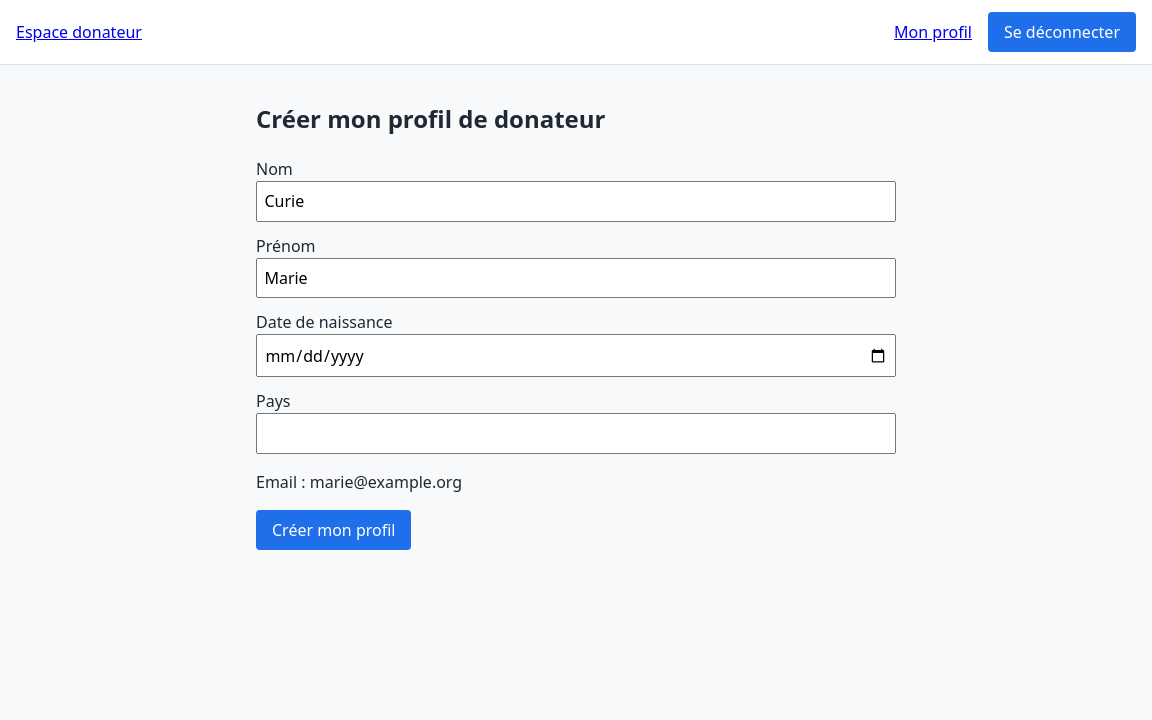
Test: profil (DB10) › saisie refusee (400) : message, formulaire conserve
This screenshot has width=1152, height=720.
Click the button "Créer mon profil" at (334, 530), box [256, 510, 412, 550]
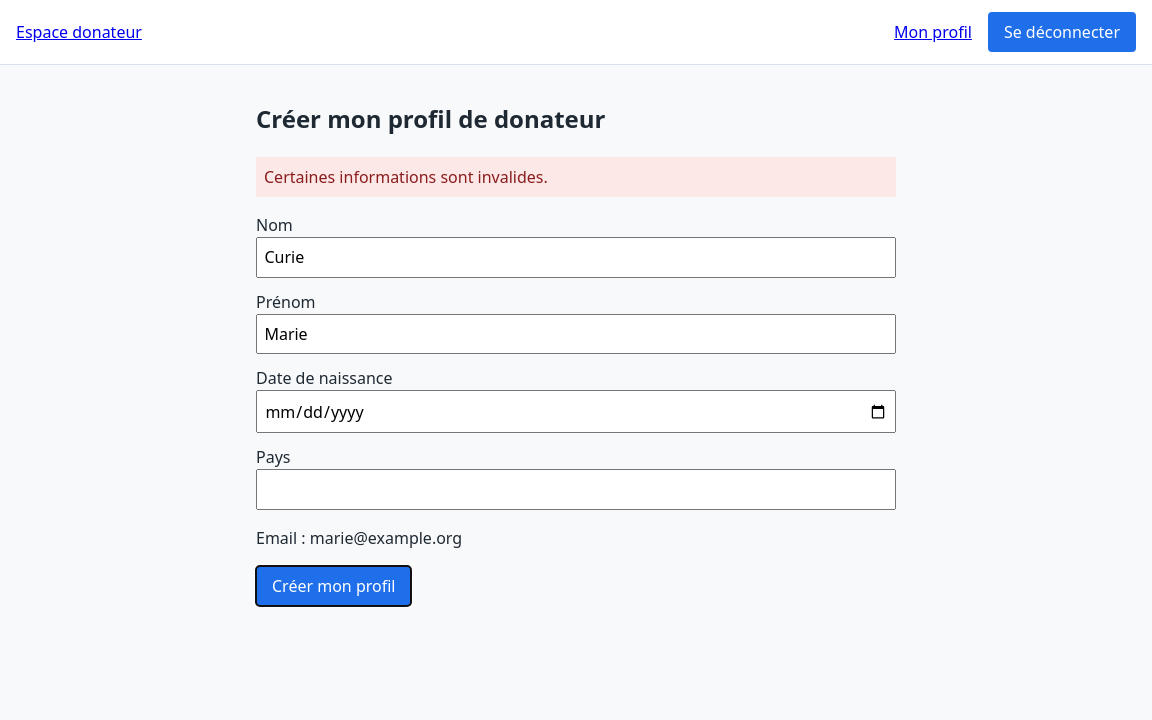
Expected: the message shows "invalides", [264, 166, 548, 188]
